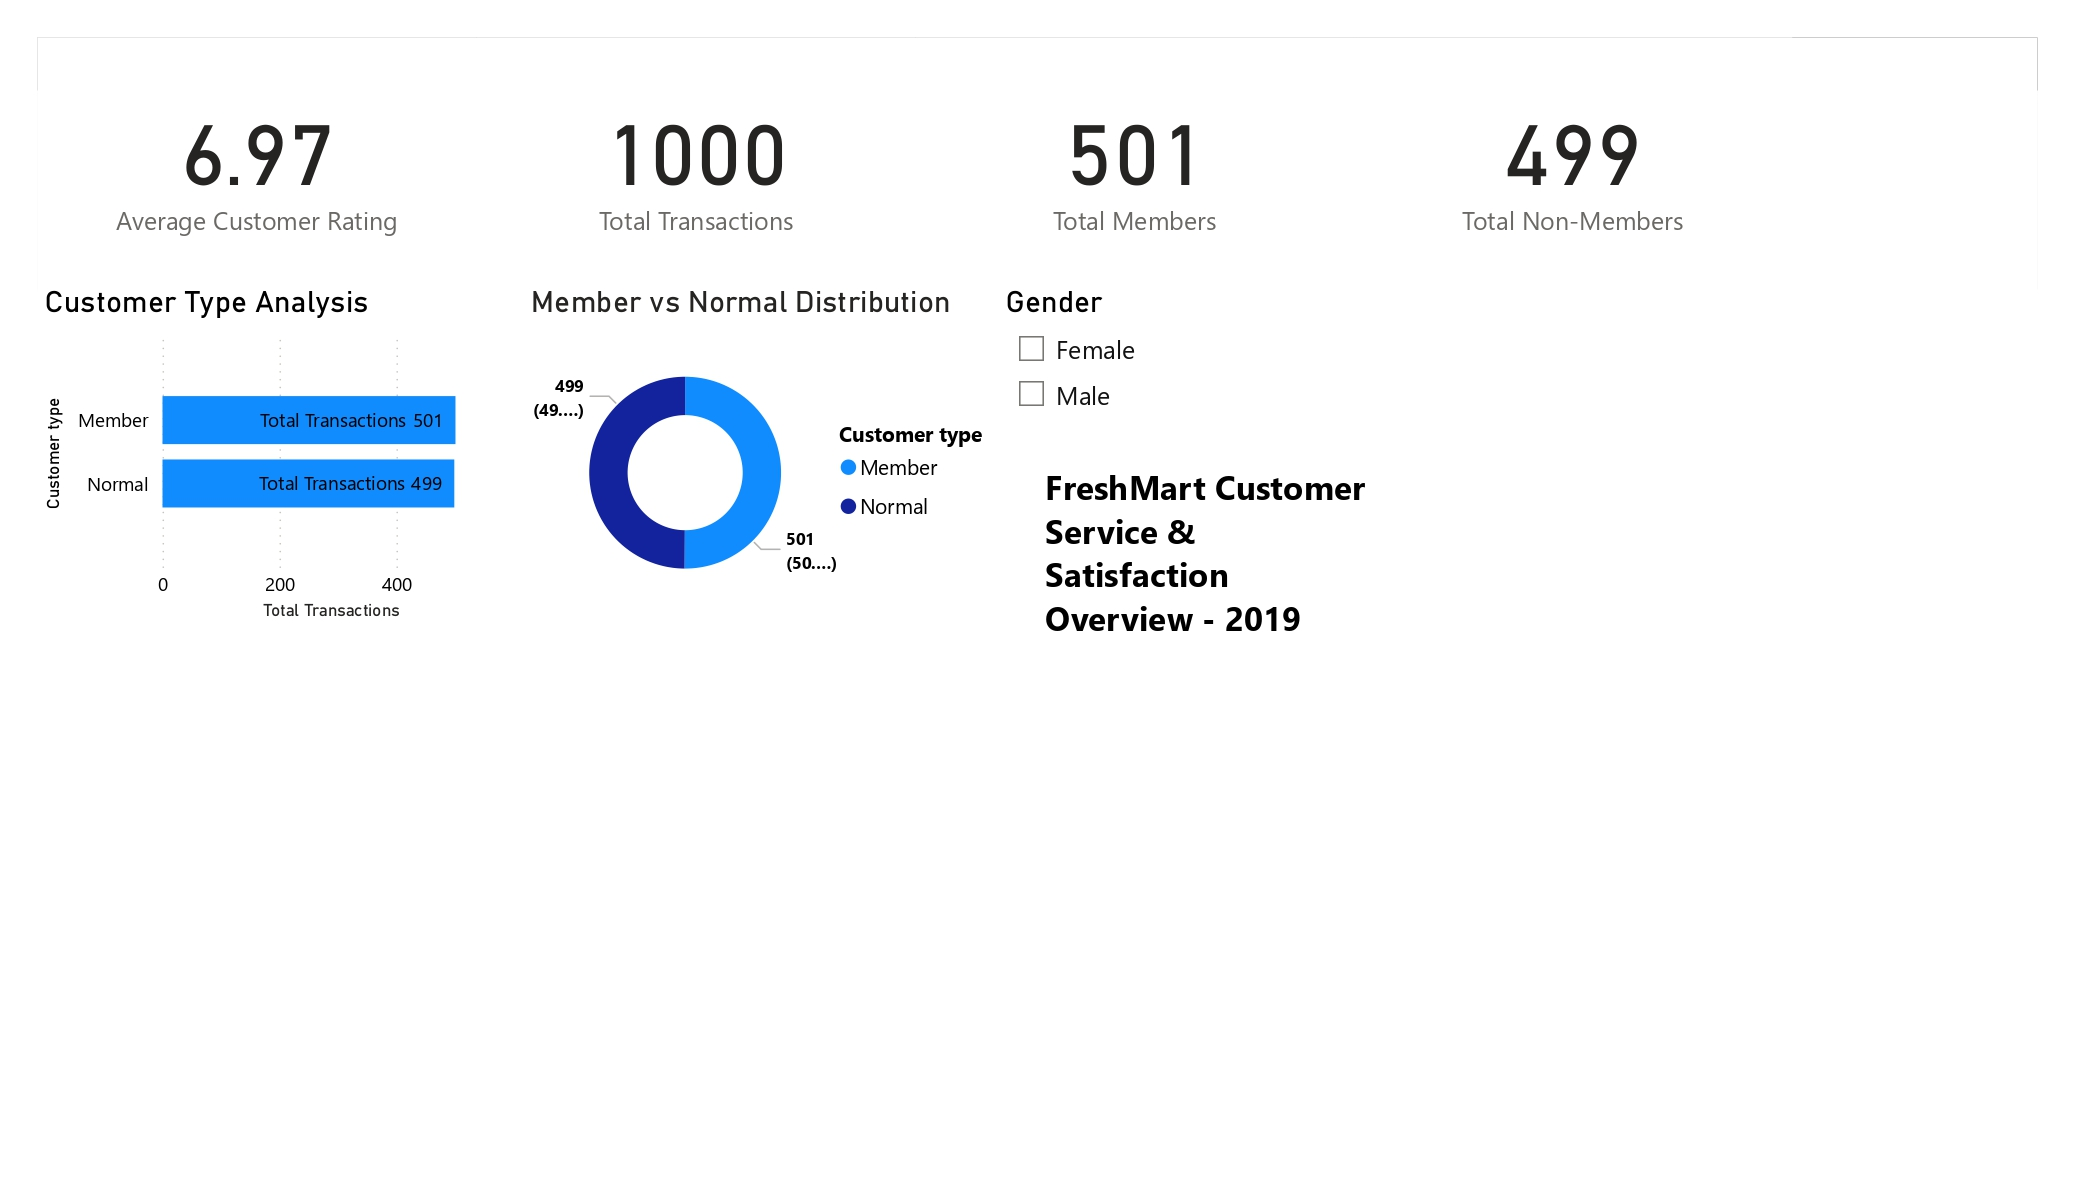

The dashboard page shown, as its layout file describes it:
{"tool":"powerbi","page":{"name":"Customer Service & Satisfaction Dashboard","canvas":[1280,720],"ordinal":2},"visuals":[{"type":"card","fields":{"Values":["supermarket_sales.Average Customer Rating"]},"box":[0,0,280.8,158.3],"z":0},{"type":"card","fields":{"Values":["supermarket_sales.Total Transactions"]},"box":[280.8,0,280.8,158.3],"z":1000},{"type":"card","fields":{"Values":["supermarket_sales.Total Members"]},"box":[561.5,0,280.8,158.3],"z":2000},{"type":"card","fields":{"Values":["supermarket_sales.Total Non-Members"]},"box":[842.3,0,280.8,158.3],"z":3000},{"type":"clusteredBarChart","title":"Customer Type Analysis","fields":{"Category":["supermarket_sales.Customer type"],"Y":["supermarket_sales.Total Transactions"]},"box":[0,158.3,311.1,218.8],"z":4000},{"type":"donutChart","title":"Member vs Normal Distribution ","fields":{"Category":["supermarket_sales.Customer type"],"Y":["supermarket_sales.Total Transactions"]},"box":[311.1,158.3,304.2,218.8],"z":5000},{"type":"slicer","title":"Gender","fields":{"Values":["supermarket_sales.Gender"]},"box":[615.2,158.3,250.5,92.2],"z":6000},{"type":"textbox","box":[640,268.4,227.1,150],"z":7000}]}

Visuals, with their boxes on the page's 1280x720 design canvas (x1, y1, x2, y2). These are canvas units, not pixel positions in the 2075x1200 screenshot, which may show the page scaled, cropped or inside an application window:
card - supermarket_sales.Average Customer Rating: 0,0,281,158
card - supermarket_sales.Total Transactions: 281,0,562,158
card - supermarket_sales.Total Members: 562,0,842,158
card - supermarket_sales.Total Non-Members: 842,0,1123,158
"Customer Type Analysis" clusteredBarChart: 0,158,311,377
"Member vs Normal Distribution " donutChart: 311,158,615,377
"Gender" slicer: 615,158,866,250
textbox: 640,268,867,418
